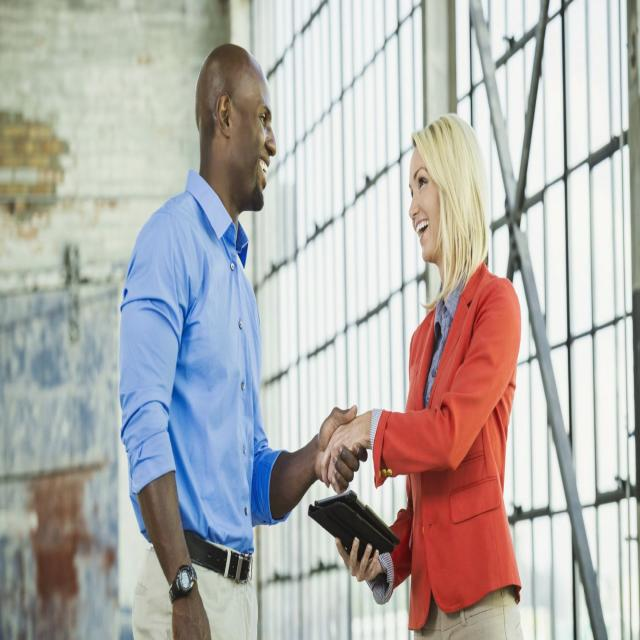adult: (119, 41, 361, 640), (323, 115, 521, 640)
